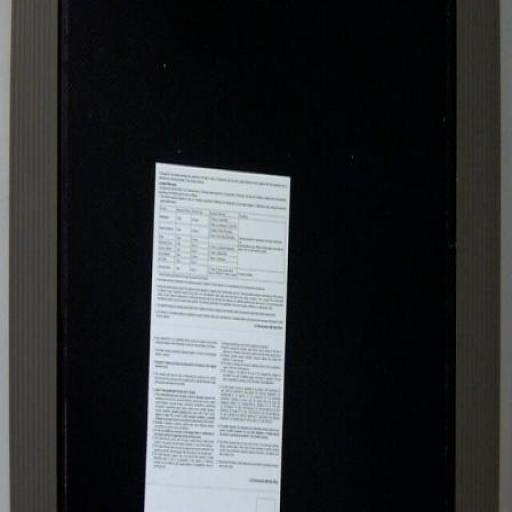paper: (87, 107, 324, 512)
